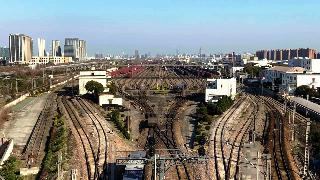train: (123, 151, 146, 180), (148, 117, 158, 126), (177, 82, 186, 92)
